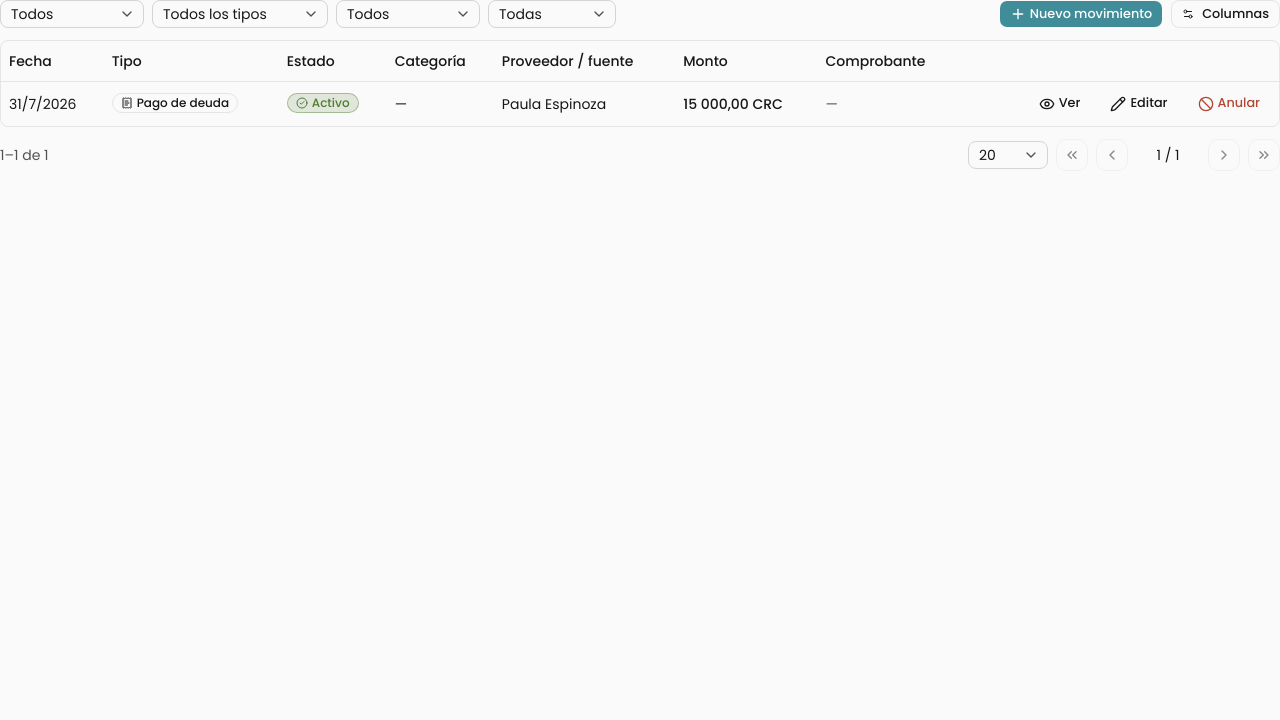
Scenario: FinanceEntriesTable — el tipo de movimiento sale del backend › el detalle tampoco inventa una categoría que no está
Click the text "Pago de deuda" at [175, 103], box [112, 93, 238, 113]
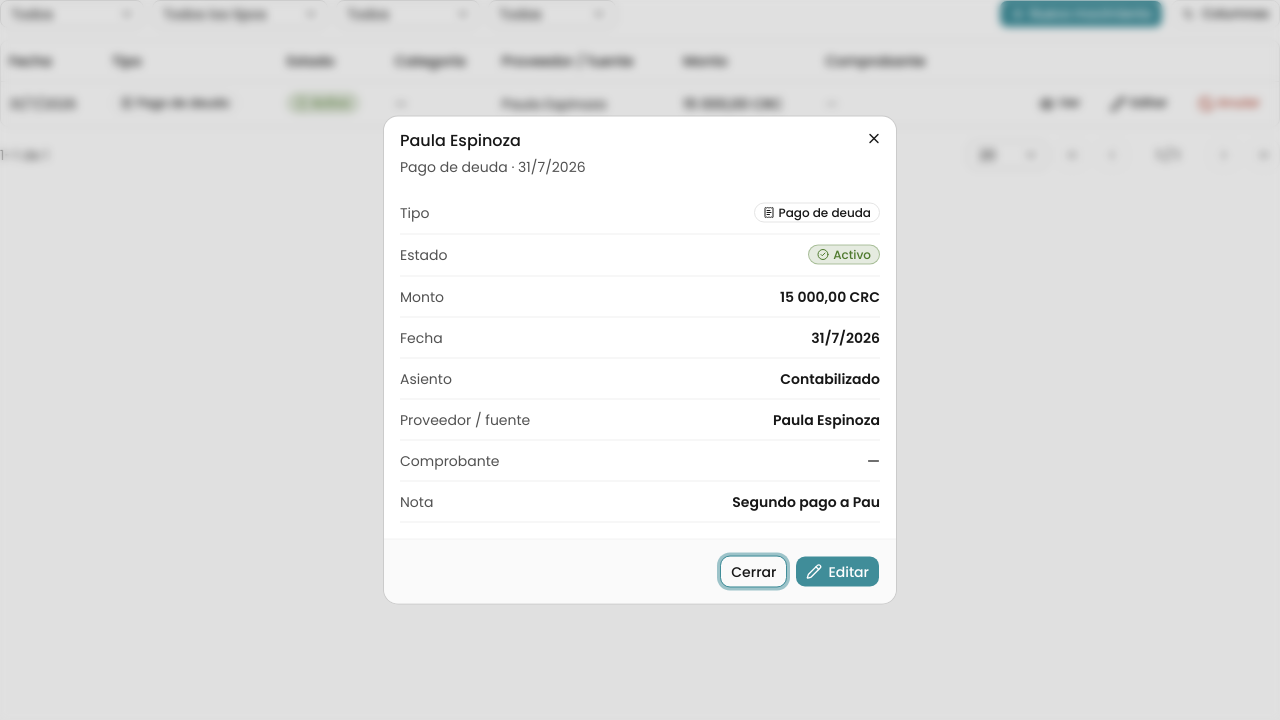
Result: the dialog is shown at [384, 116, 896, 604]
Result: the text "Pago de deuda · 31/7/2026" is shown at [400, 156, 586, 176]
